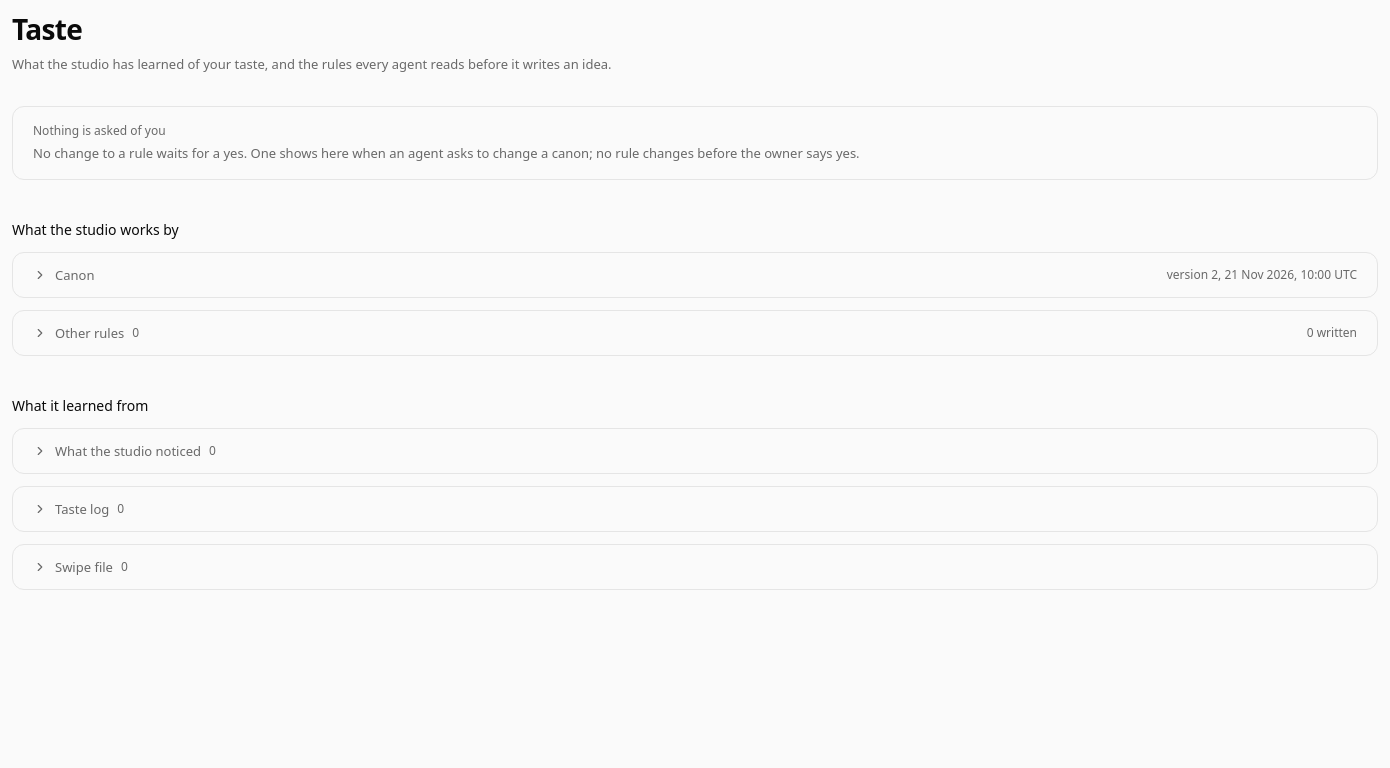
Test: Taste page › reads an old version
The width and height of the screenshot is (1390, 768).
Click the button "Canon version 2, 21 Nov 2026, 10:00 UTC". click: click(75, 275)
box: top-left (13, 253), bottom-right (1377, 297)
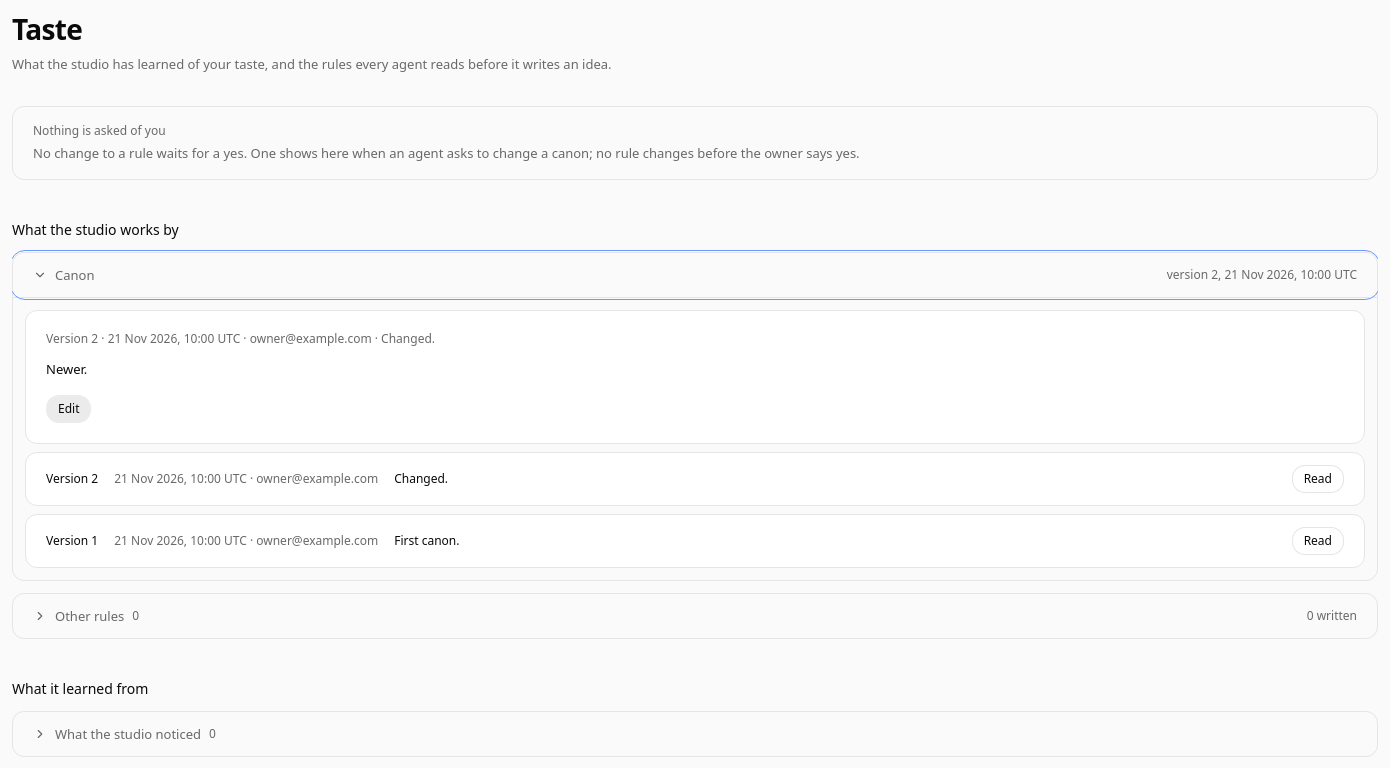
Click the button "Read" in the row of "First canon.". click: click(1318, 541)
box: top-left (1292, 527), bottom-right (1344, 555)
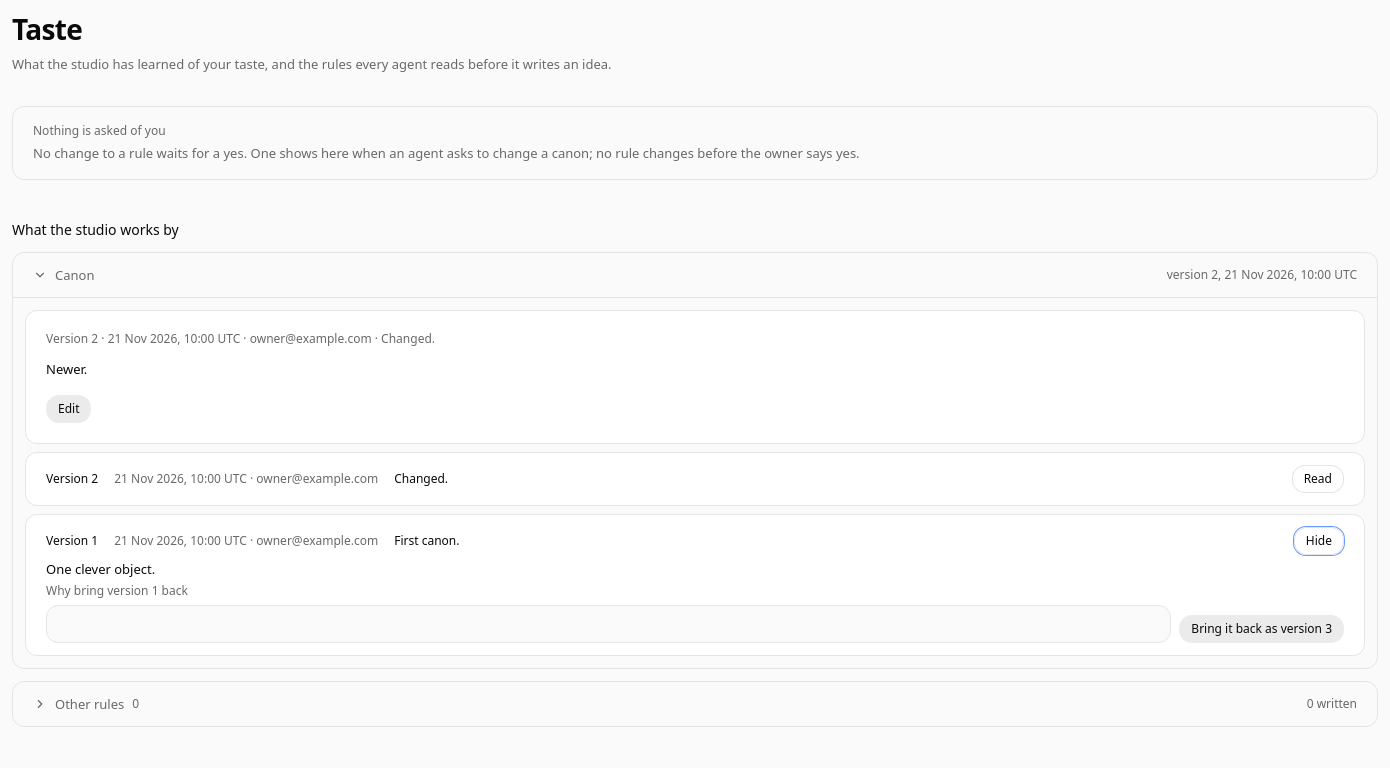
Now the text "One clever object." is shown, box top-left (46, 560), bottom-right (155, 578)
